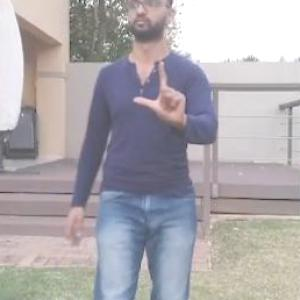land_hand: (123, 53, 191, 132)
